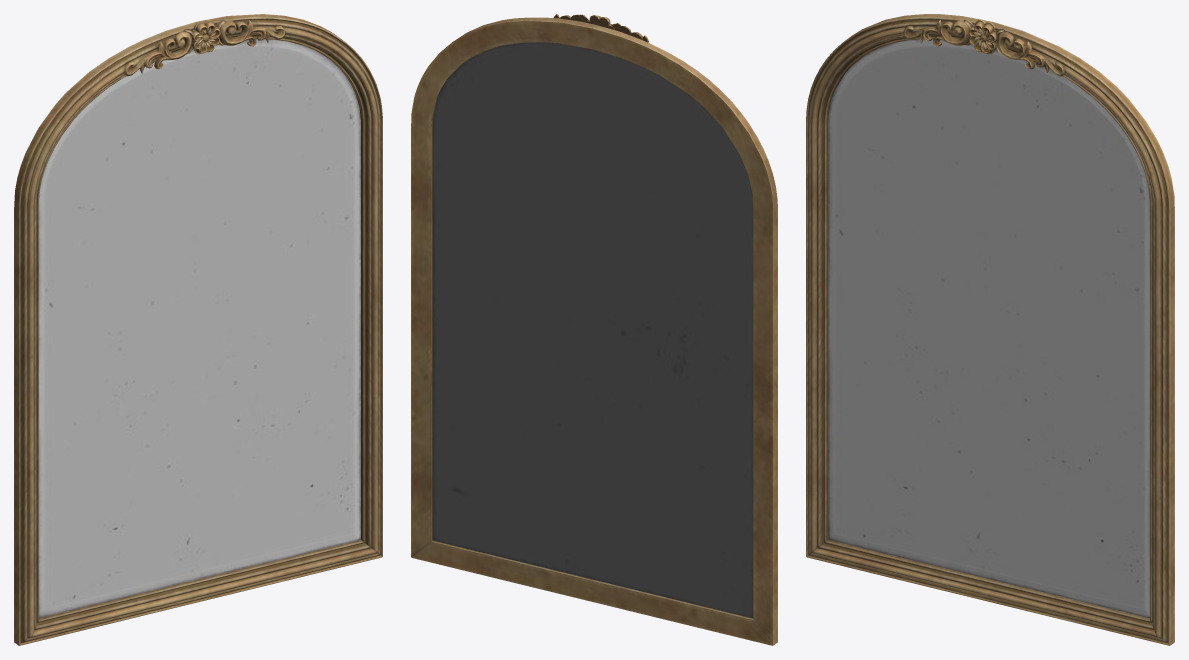
The model's file is ornate_mirror_01.glb.
3 views of the same model, side by side, from view 1: azimuth 30°, elevation 25°; view 2: azimuth 150°, elevation 25°; view 3: azimuth 330°, elevation 25° (orthographic).
Visible parts, largest first — view 1: ornate_mirror_01; view 2: ornate_mirror_01; view 3: ornate_mirror_01.
Part boxes in pixels (x1=…): ornate_mirror_01: x1=14, y1=14, x2=382, y2=645; ornate_mirror_01: x1=411, y1=14, x2=777, y2=645; ornate_mirror_01: x1=806, y1=14, x2=1174, y2=645.
Bounding box in the file's own units: 0.4865 × 0.7442 × 0.026.
1 material, 1 textured.
